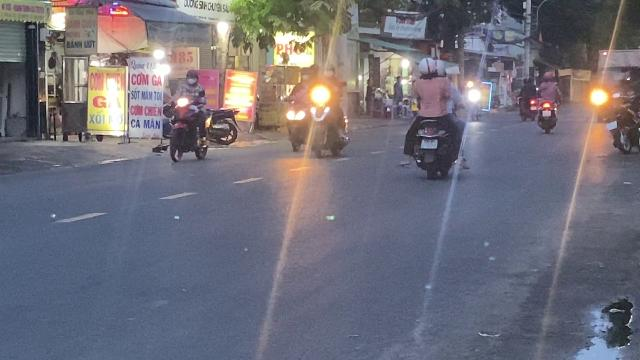helmet: (415, 57, 437, 78), (434, 58, 448, 78), (185, 69, 199, 85)
licenseplate: (421, 139, 437, 149)
motorcyclist: (401, 56, 467, 180), (164, 68, 212, 164)
